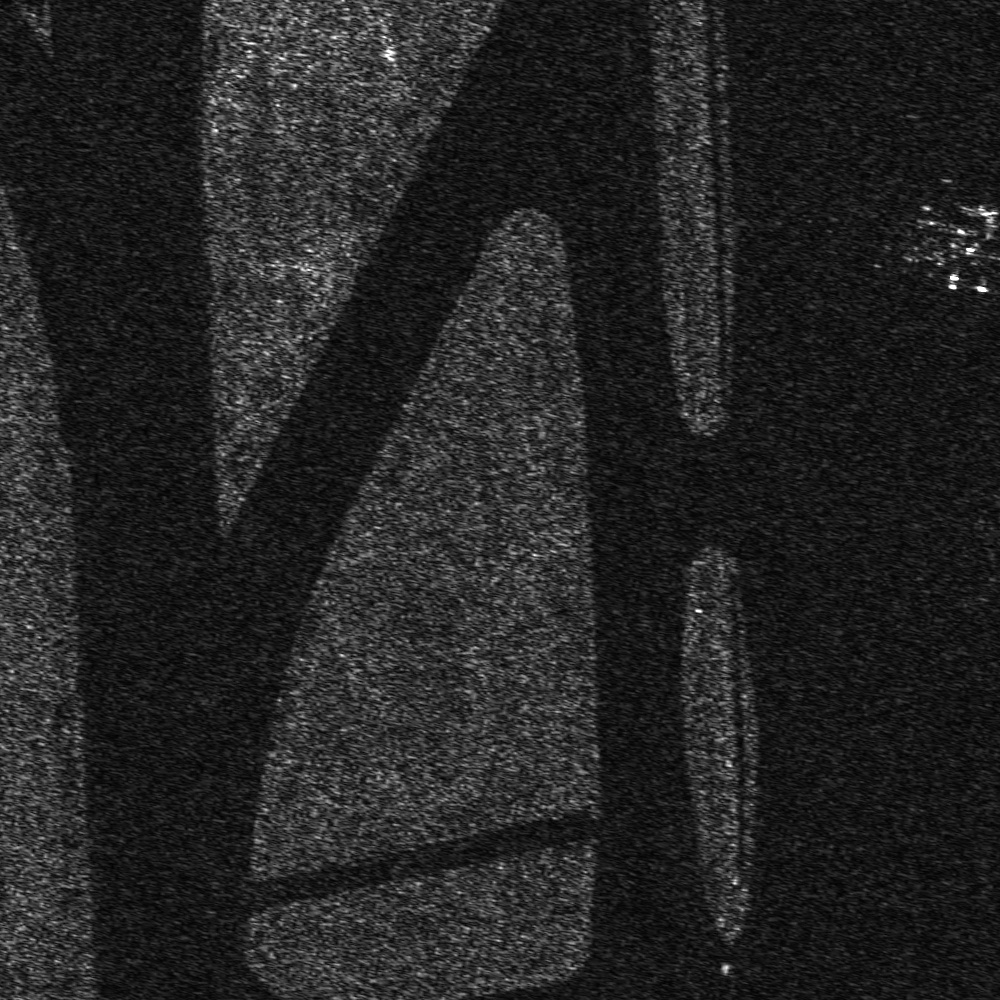A320/321: (932, 202, 999, 294)
